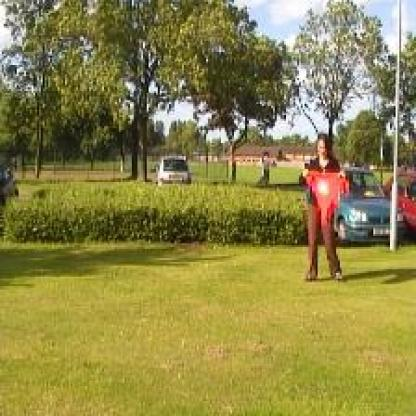other: (295, 162, 352, 222)
